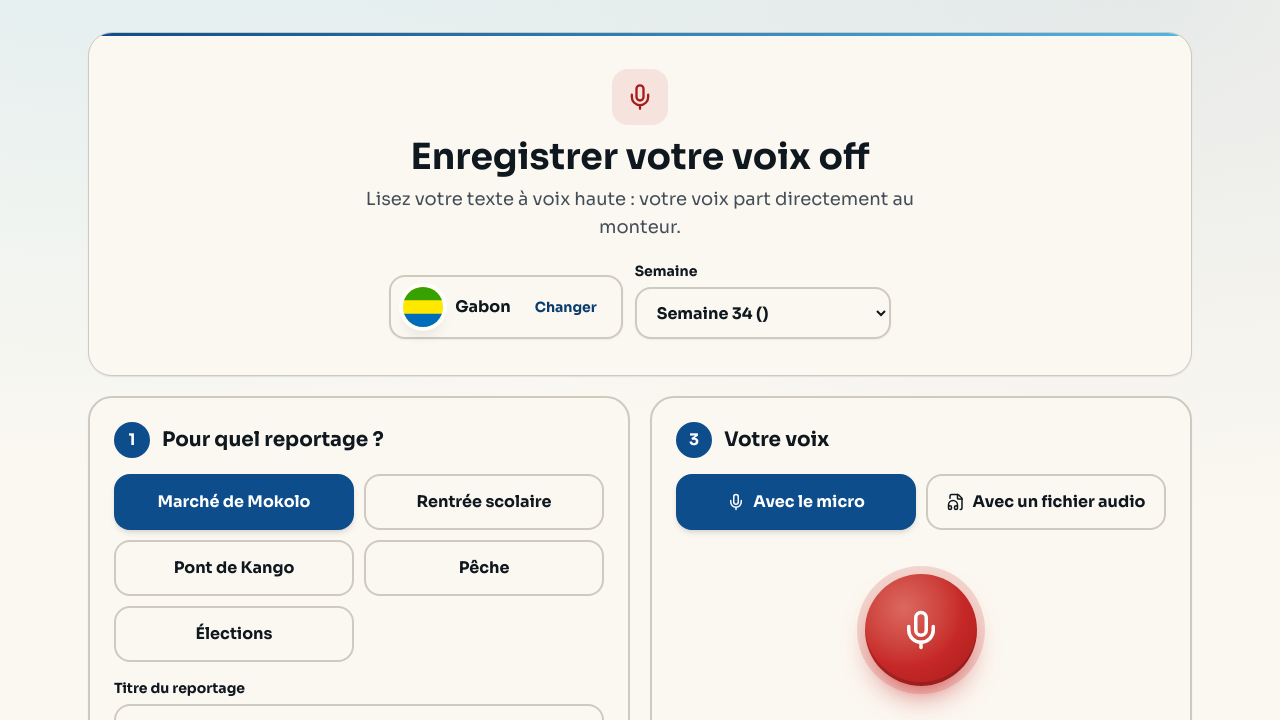
Test case: StudioVoixJournaliste › propose les vrais reportages de la semaine, avec leur titre (jusqu’à cinq)
The width and height of the screenshot is (1280, 720).
Click the button "Pont de Kango" at (234, 568), box [114, 540, 354, 596]
(page scrolled)
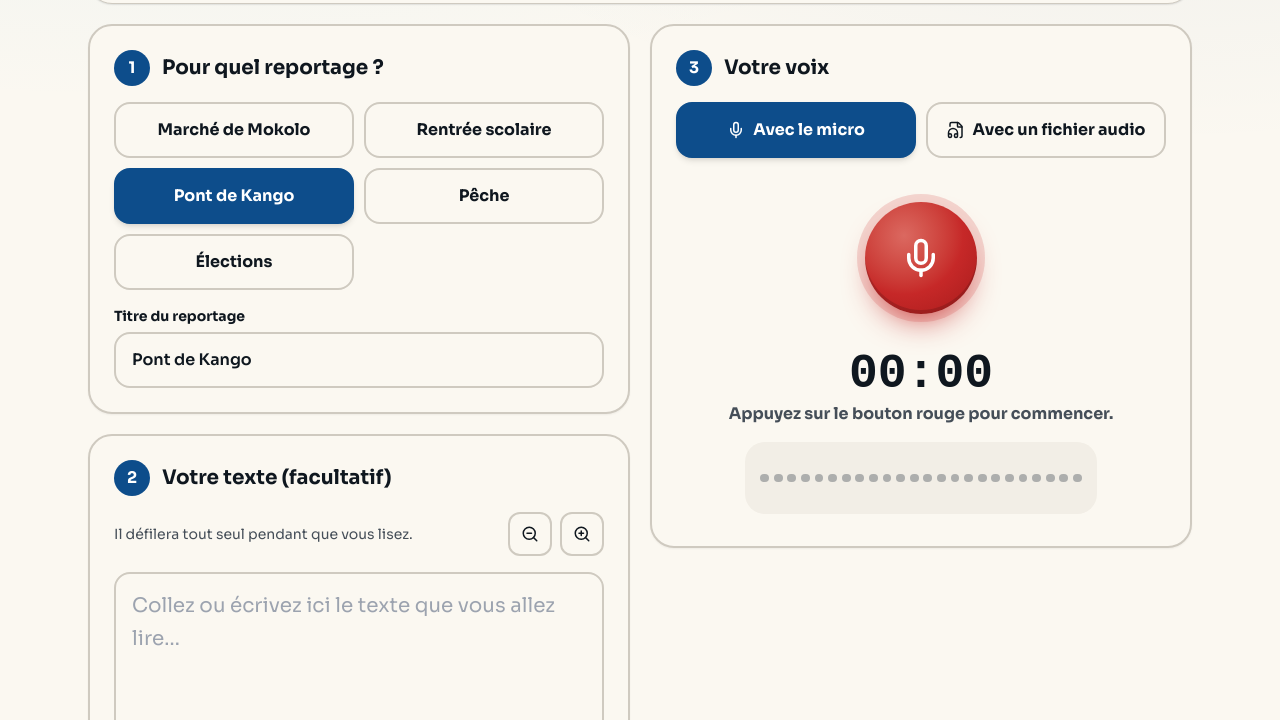
Expected: the field labelled "Titre du reportage" holds "Pont de Kango", [114, 332, 604, 388]
